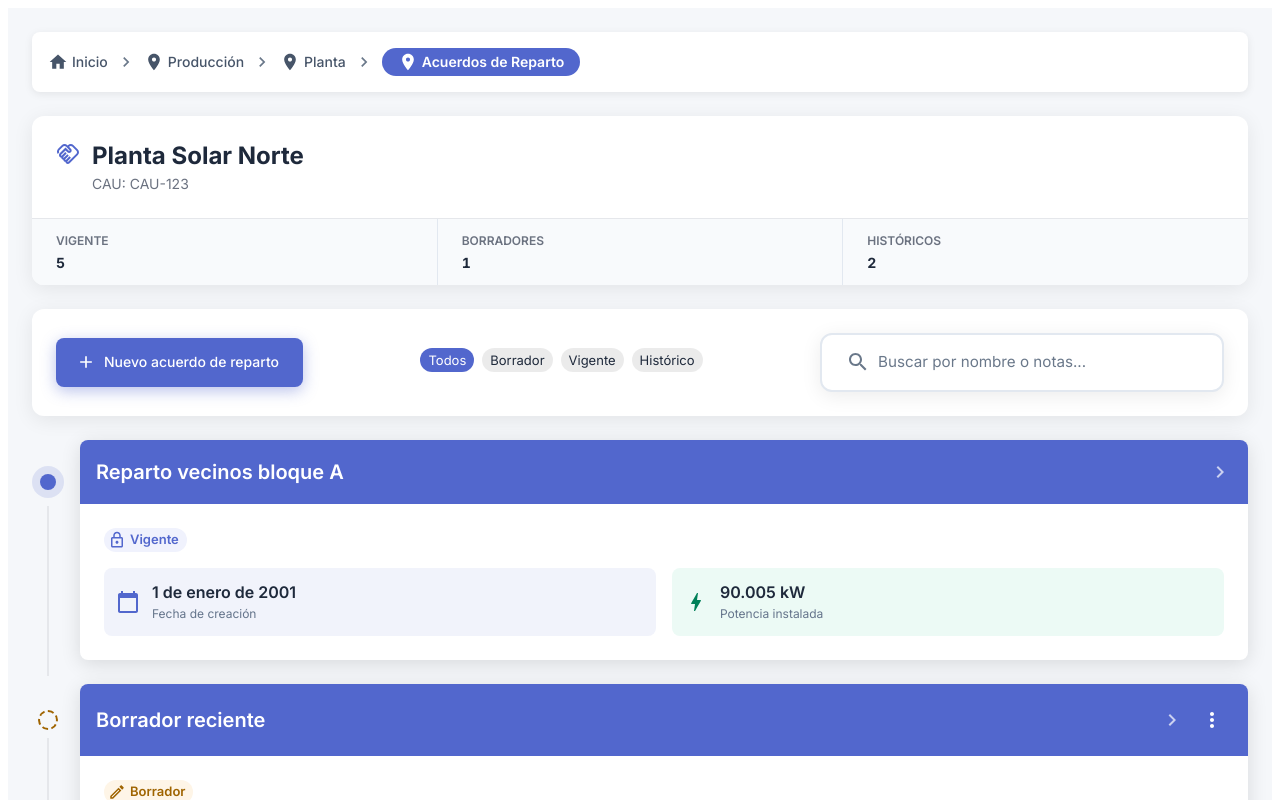
Test: SharingAgreementsPage › only the DRAFT agreement's card renders a kebab, and it only offers Eliminar
Click the button named "Más acciones para Borrador reciente" at [1212, 720], box x1=1192 y1=700 x2=1232 y2=740
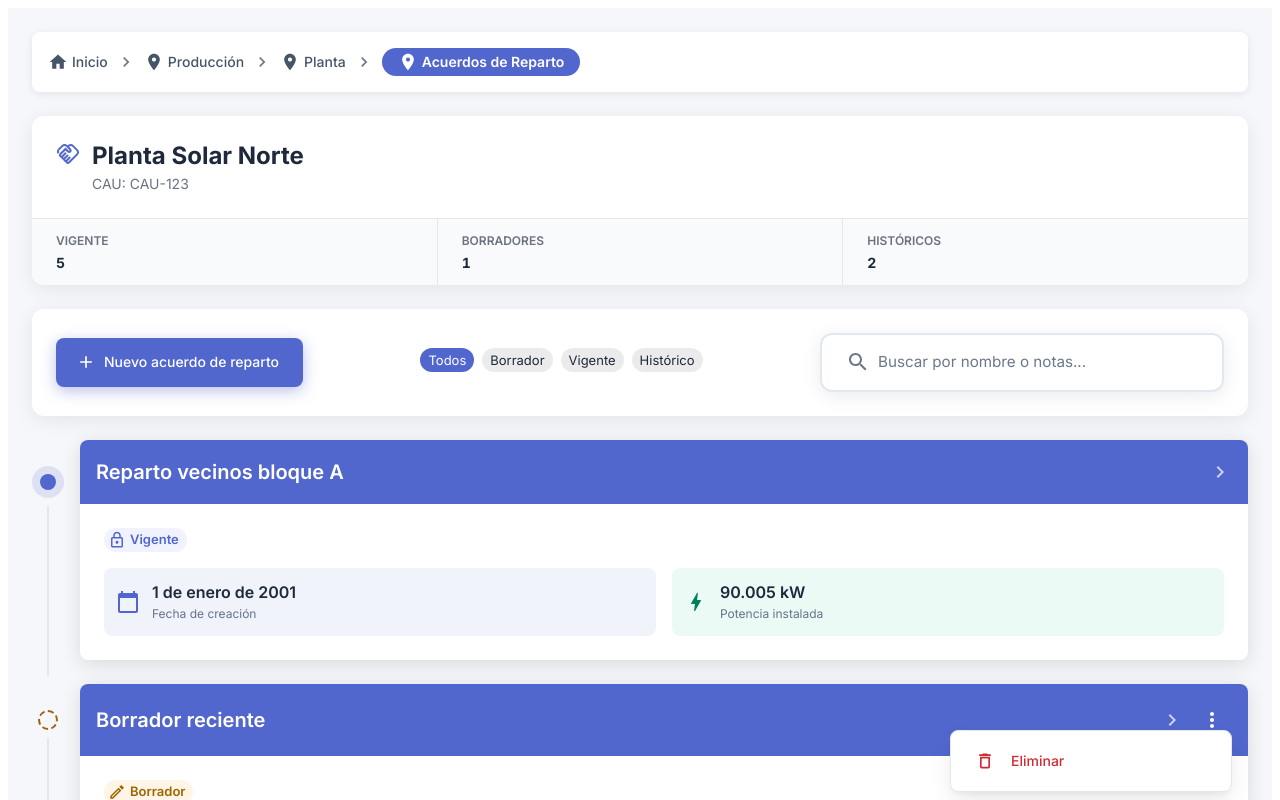
Expected: the text "Eliminar" is shown, x1=1011 y1=751 x2=1064 y2=771
